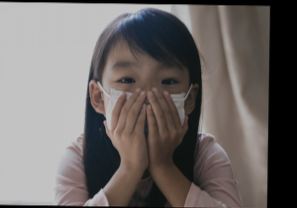with_mask: (98, 59, 190, 159)
